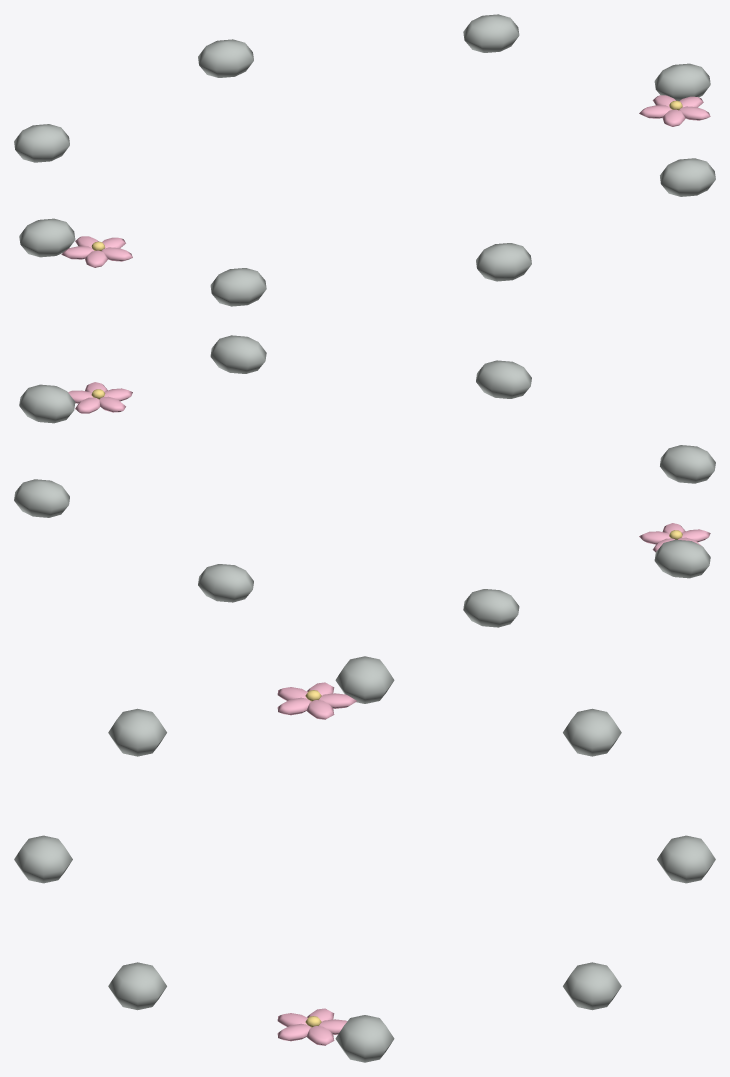
File: foundation_spring.glb
3 renders of one model, top to bottom at view 1: azimuth 30°, elevation 25°; view 2: azimuth 150°, elevation 25°; view 3: azimuth 270°, elevation 25°, orthographic. The views are drawn at different scales.
Bounding box in the file's own units: 3.58 × 0.16 × 2.73.
